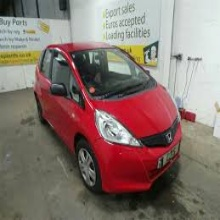no damage: (33, 42, 184, 196)
